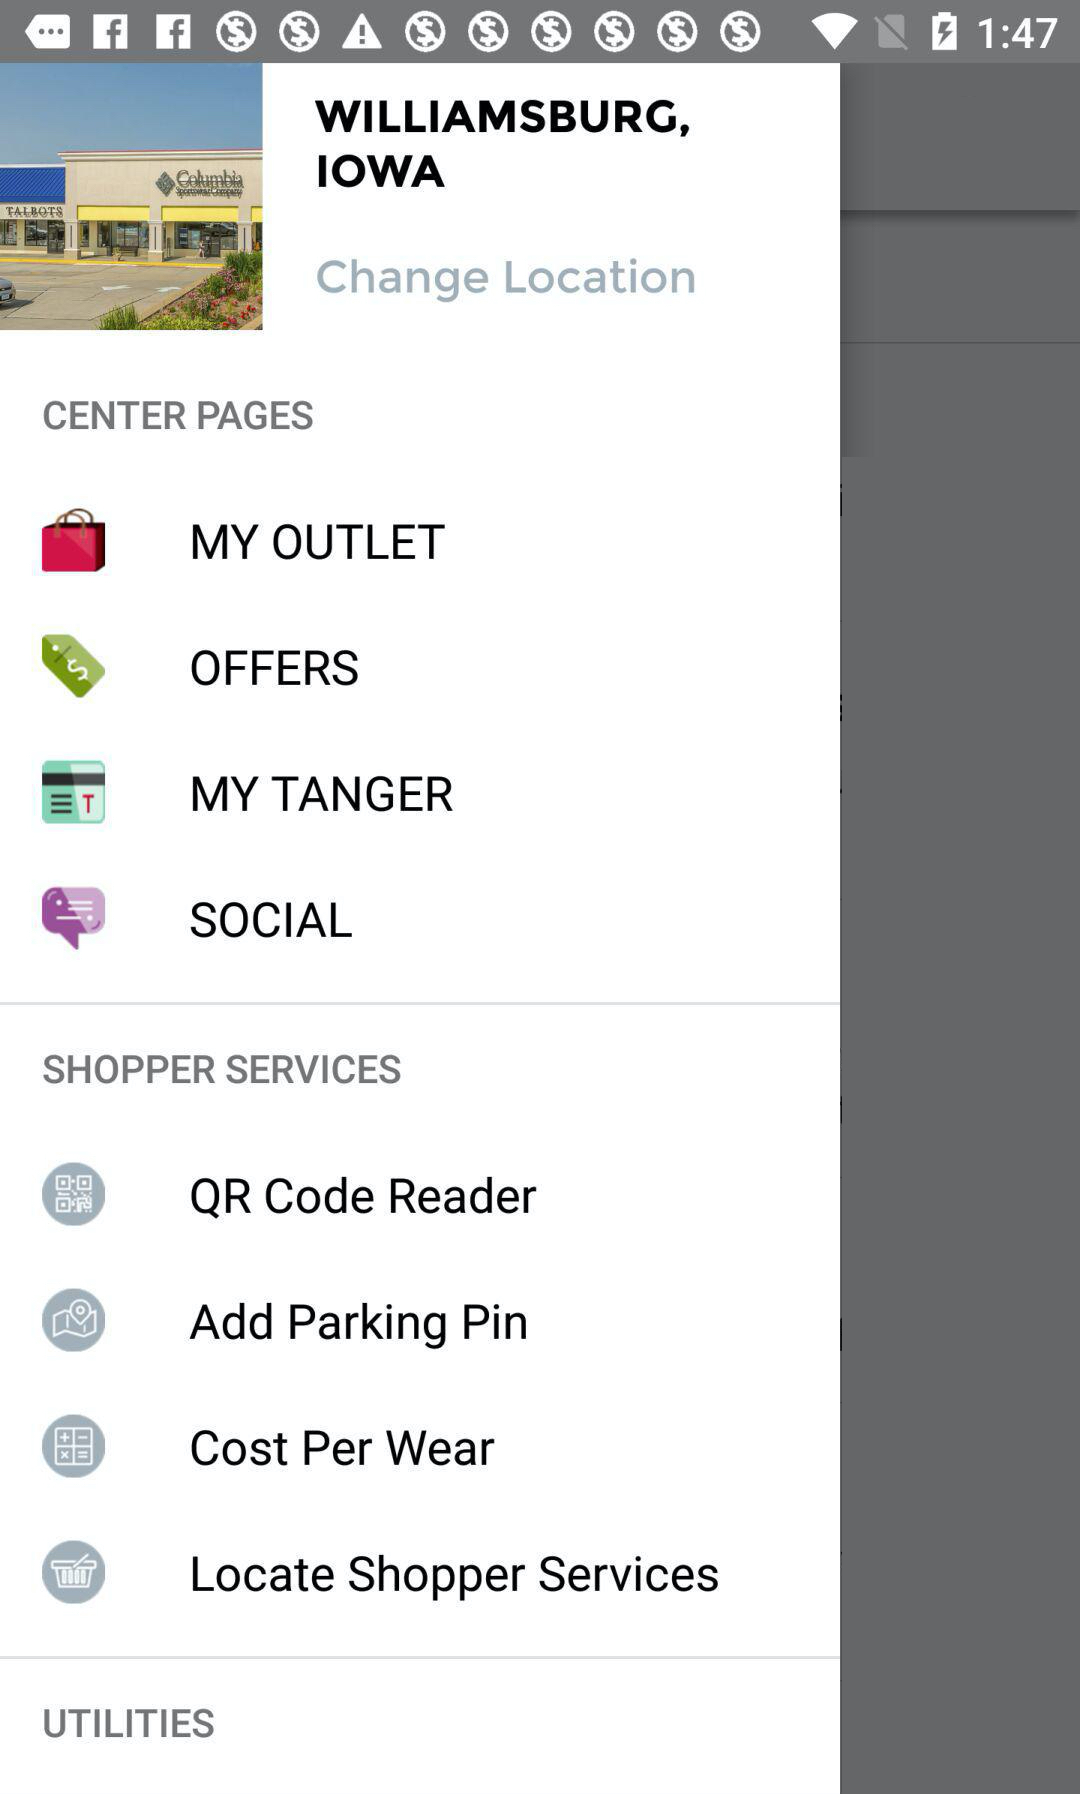Drawer: (1, 64, 840, 1794)
Icon: (42, 633, 108, 700), (42, 760, 108, 825), (42, 885, 108, 951), (42, 1288, 108, 1353)
Image: (1, 64, 264, 331), (42, 1161, 108, 1228), (42, 507, 108, 573), (42, 1413, 108, 1479), (42, 1540, 108, 1606)
Text: (315, 99, 691, 188), (192, 1553, 720, 1602), (316, 258, 696, 304), (190, 1301, 528, 1351), (190, 1174, 539, 1220), (191, 1428, 497, 1469), (44, 1055, 402, 1085), (192, 523, 447, 563), (192, 775, 454, 812), (44, 400, 315, 431), (191, 648, 359, 687), (190, 901, 354, 939), (44, 1707, 217, 1739)
UpperTaskBar: (1, 1, 1080, 64)
